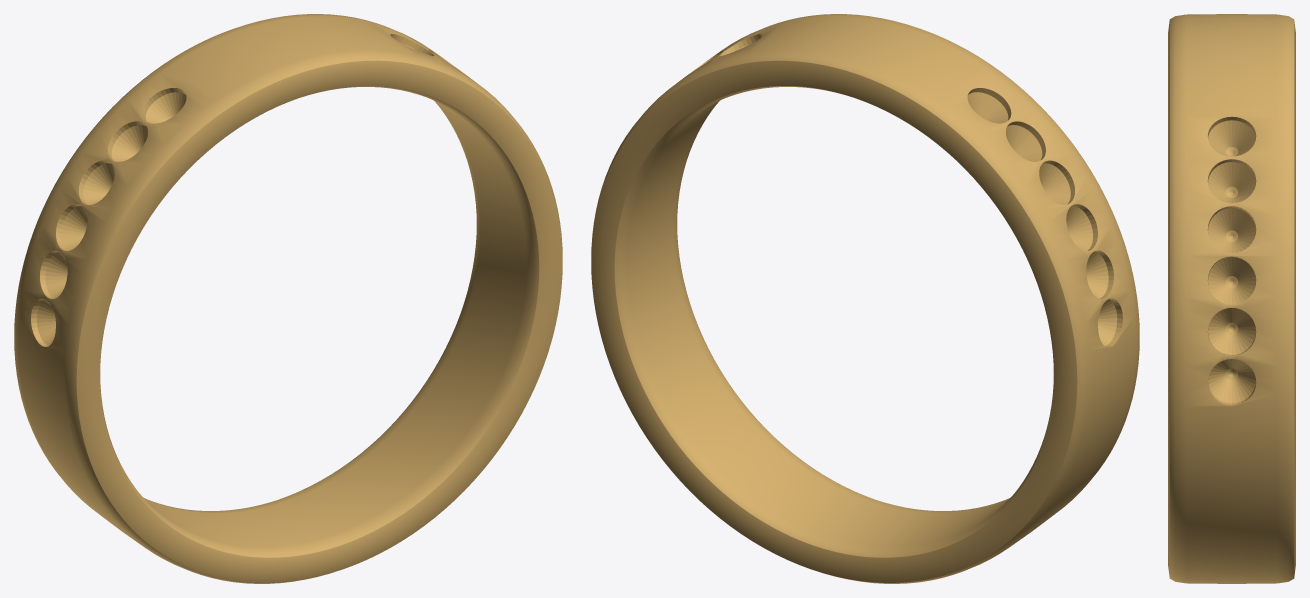
File: wide-flush-accents.glb
3 renders of one model, left to right at view 1: azimuth 30°, elevation 25°; view 2: azimuth 150°, elevation 25°; view 3: azimuth 270°, elevation 25°, orthographic.
Parts seen in each view (by area): view 1: Band; view 2: Band; view 3: Band.
Part boxes in pixels (x1=…): Band: x1=14, y1=14, x2=562, y2=583; Band: x1=591, y1=14, x2=1139, y2=583; Band: x1=1168, y1=14, x2=1295, y2=583.
Size of the model in its own units: 19.6 by 19.6 by 4.4.
